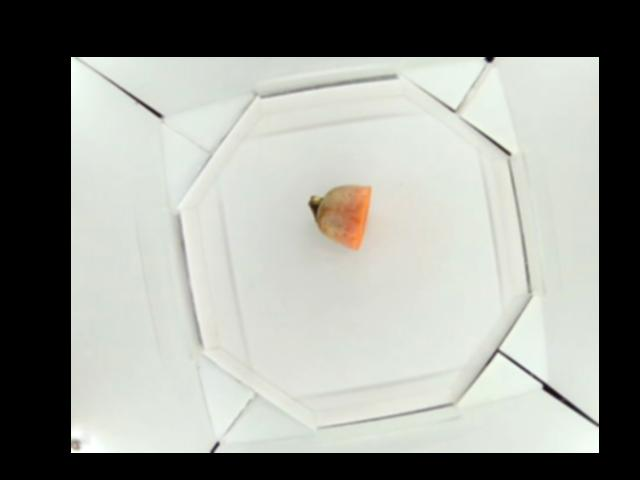Carrot: (307, 184, 374, 250)
